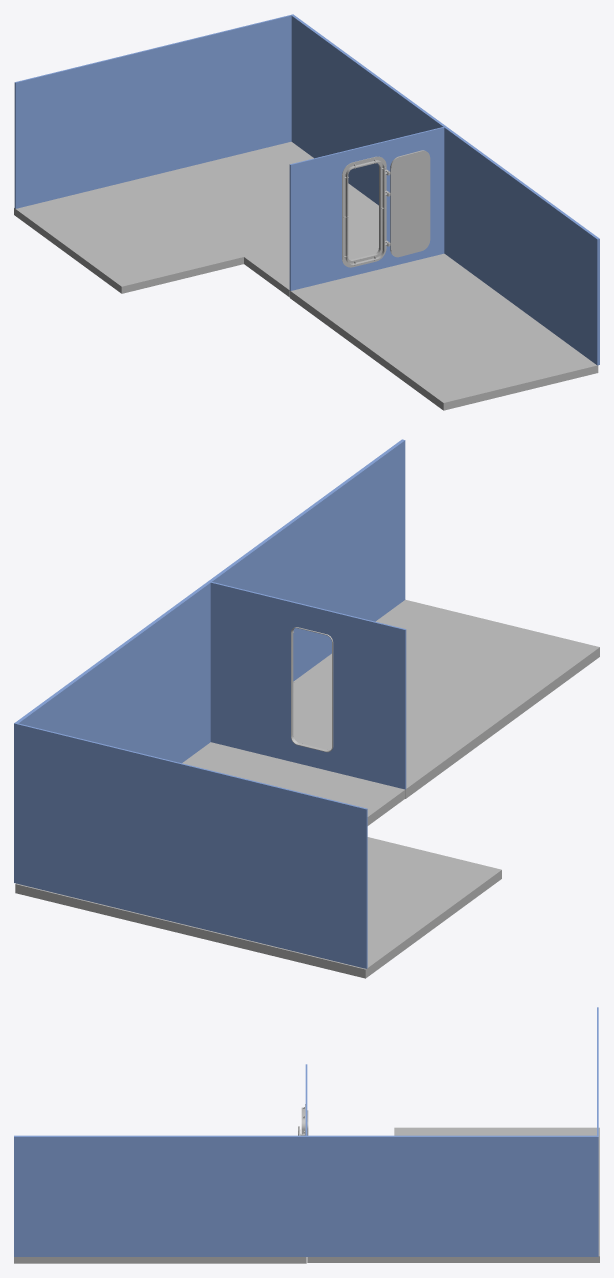
File: shiphallway4.glb
3 views of the same model, one above another, from view 1: azimuth 30°, elevation 25°; view 2: azimuth 150°, elevation 25°; view 3: azimuth 270°, elevation 25° (orthographic). The views are drawn at different scales.
Visible parts, largest first — view 1: wallB, wallA, floorB, floorA, doorA, doorA_frame; view 2: wallB, wallA, floorA, floorB, doorA_frame; view 3: wallA, wallB, floorB, floorA.
Part boxes in pixels (bbox=[...]): wallB: bbox=[14, 14, 445, 208]; wallA: bbox=[289, 126, 599, 365]; floorB: bbox=[14, 141, 378, 297]; floorA: bbox=[290, 253, 598, 410]; doorA: bbox=[387, 150, 430, 257]; doorA_frame: bbox=[342, 156, 389, 267]; wallB: bbox=[14, 581, 367, 968]; wallA: bbox=[208, 439, 406, 789]; floorA: bbox=[293, 599, 599, 798]; floorB: bbox=[15, 742, 501, 978]; doorA_frame: bbox=[291, 627, 333, 752]; wallA: bbox=[14, 1064, 307, 1256]; wallB: bbox=[305, 1007, 598, 1256]; floorB: bbox=[307, 1127, 599, 1262]; floorA: bbox=[14, 1257, 306, 1263].
Size of the model in its own units: 5.7 by 2.62 by 10.9.
